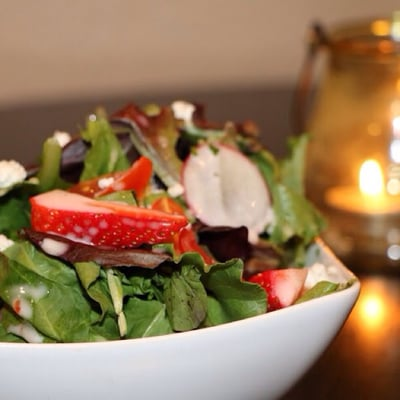sushi: (1, 87, 361, 400)
